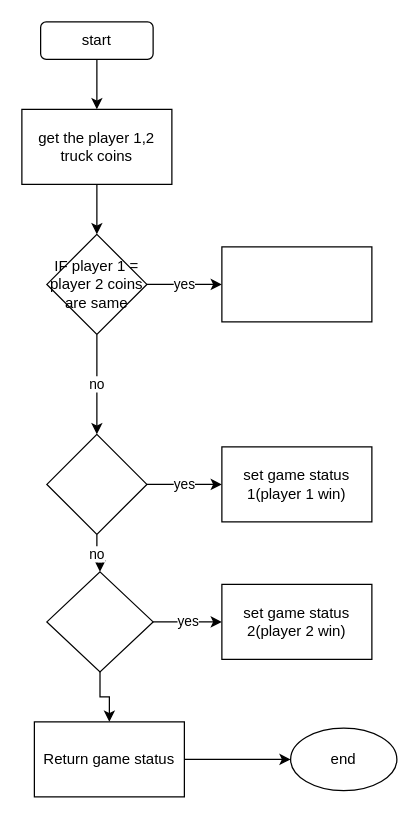
The diagram is 419 pixels wide and 819 high, and some of its shapes have lost their labels. The centre of each missing label's shape, as x and y in pixels:
ELSE IF player 1 < player 2 coins: the point at 99,621
ELSE IF player 1 > player 2 coins: the point at 96,483
set game status 0(draw): the point at 296,284
